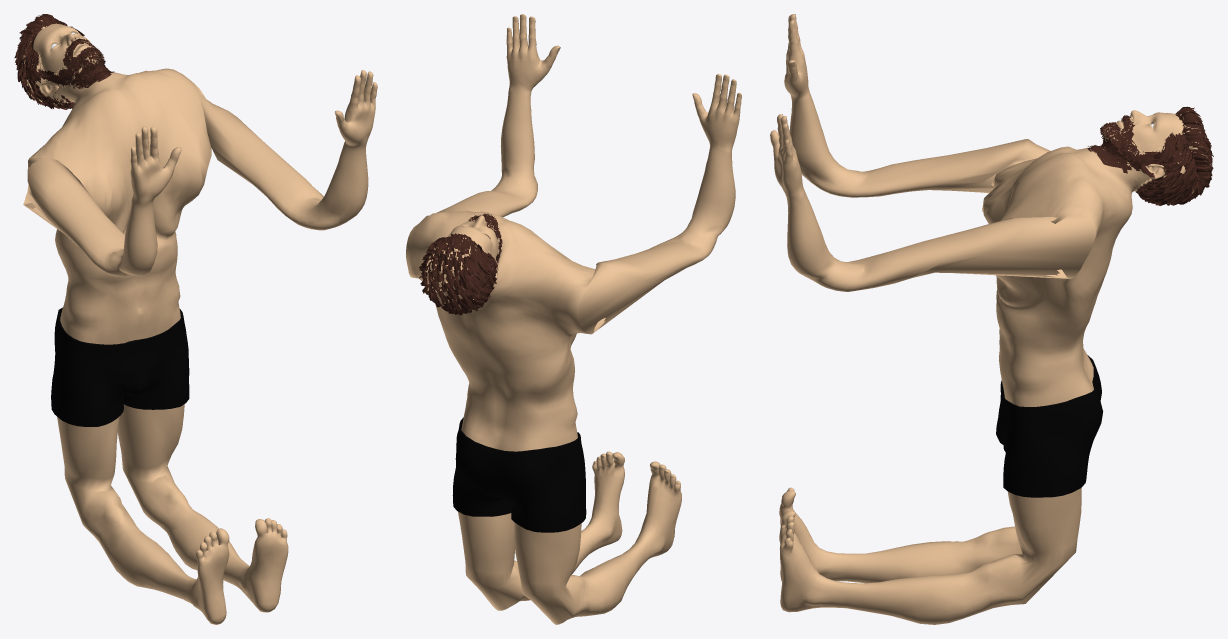
Rendered from Human Car.fbx.
3 views of the same model, side by side, from view 1: azimuth 30°, elevation 25°; view 2: azimuth 150°, elevation 25°; view 3: azimuth 270°, elevation 25° (orthographic). The views are drawn at different scales.
Parts seen in each view (by area): view 1: Human Car; view 2: Human Car; view 3: Human Car.
Part boxes in pixels (x1,y1,x2,y2): Human Car: (14,14,377,624); Human Car: (406,14,741,624); Human Car: (770,14,1213,624).
Bounding box in the file's own units: 7344 × 15159 × 11065.
